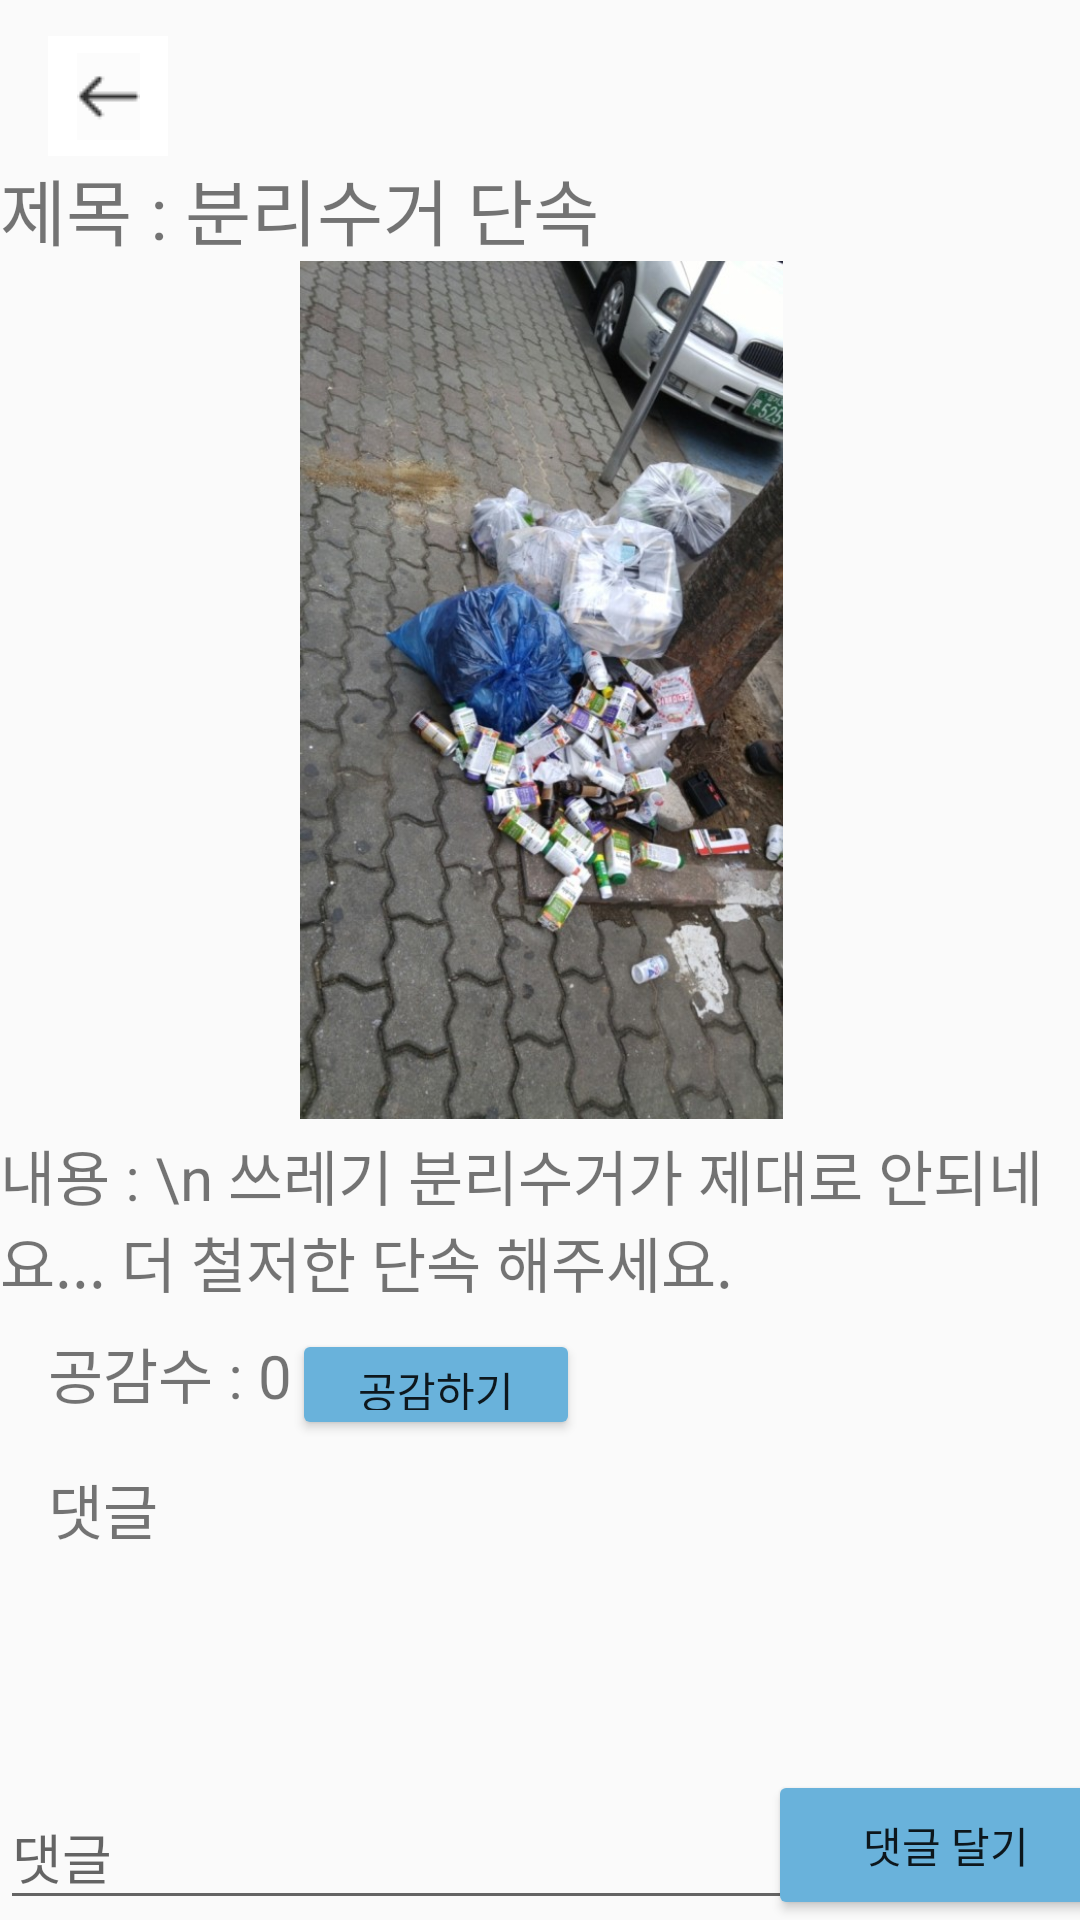

Point at icon controls on the screen. Image size 1080*1920, points as point (x, y).
backarrow: point (108, 97)
